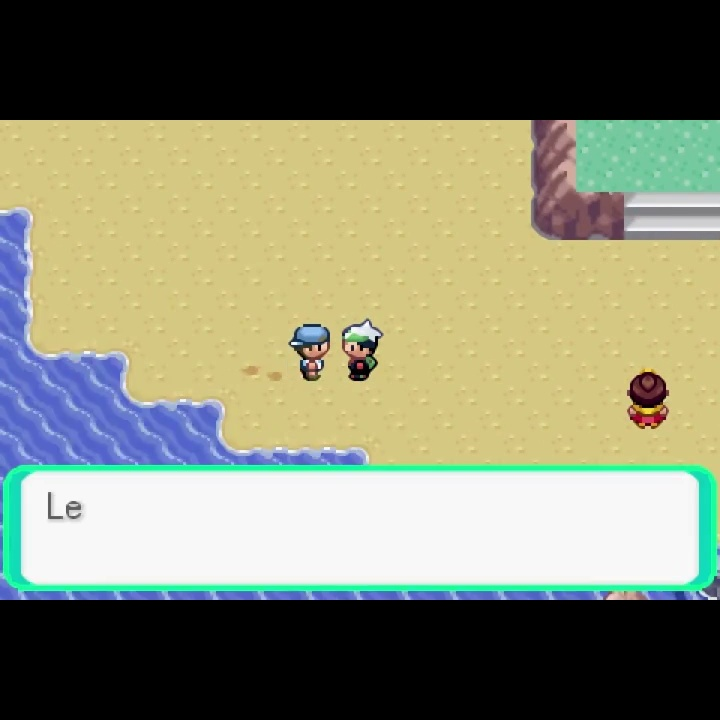agent: (342, 315, 385, 384)
npc: (623, 368, 672, 435), (288, 320, 335, 386)
